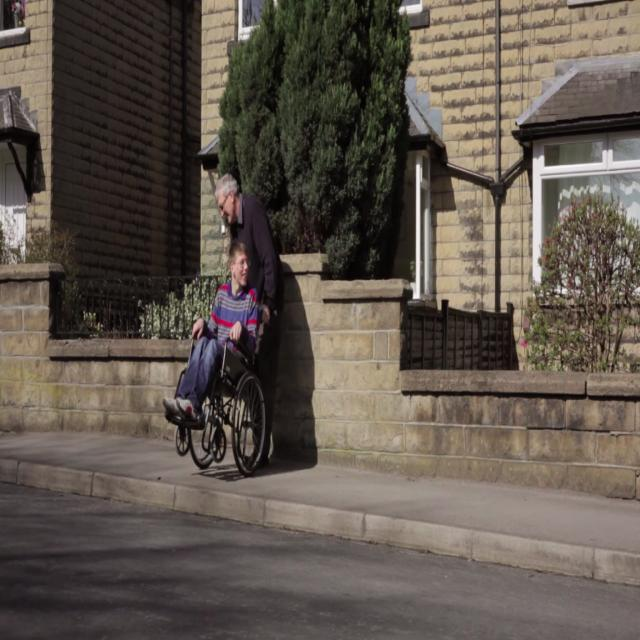wheelchairs: (161, 295, 272, 483)
